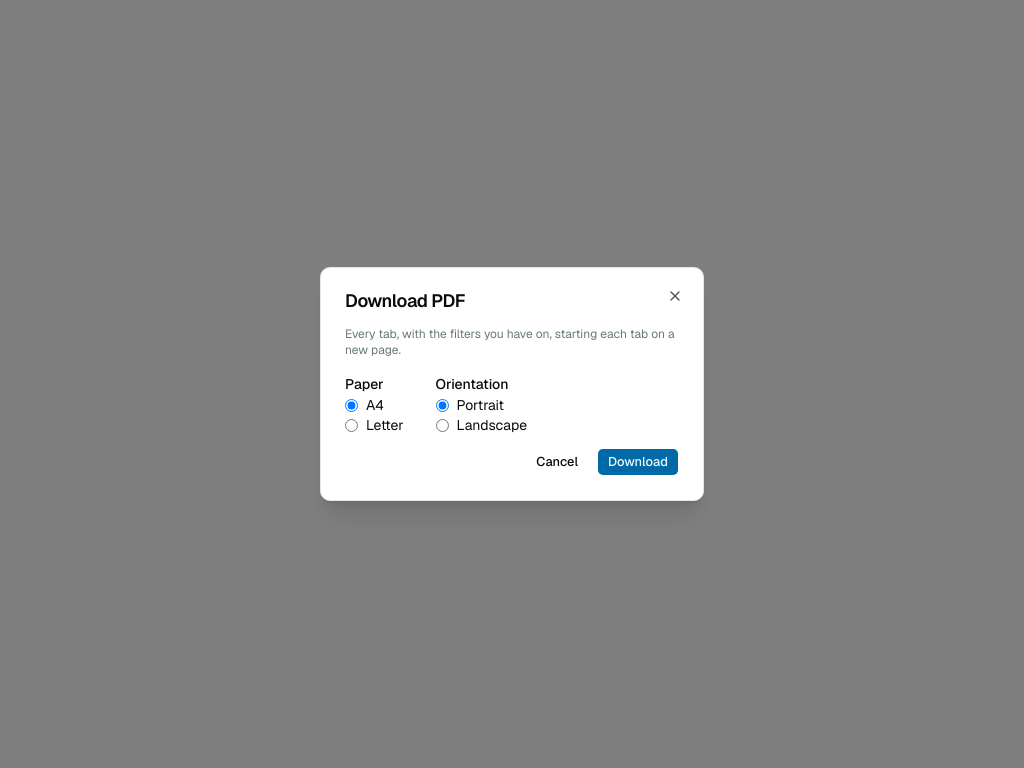
it: Download PDF… › defaults to A4 portrait and stays open with the server's sentence when the PDF fails
Click the button "Download" at x=638, y=462, box [597,448,679,476]
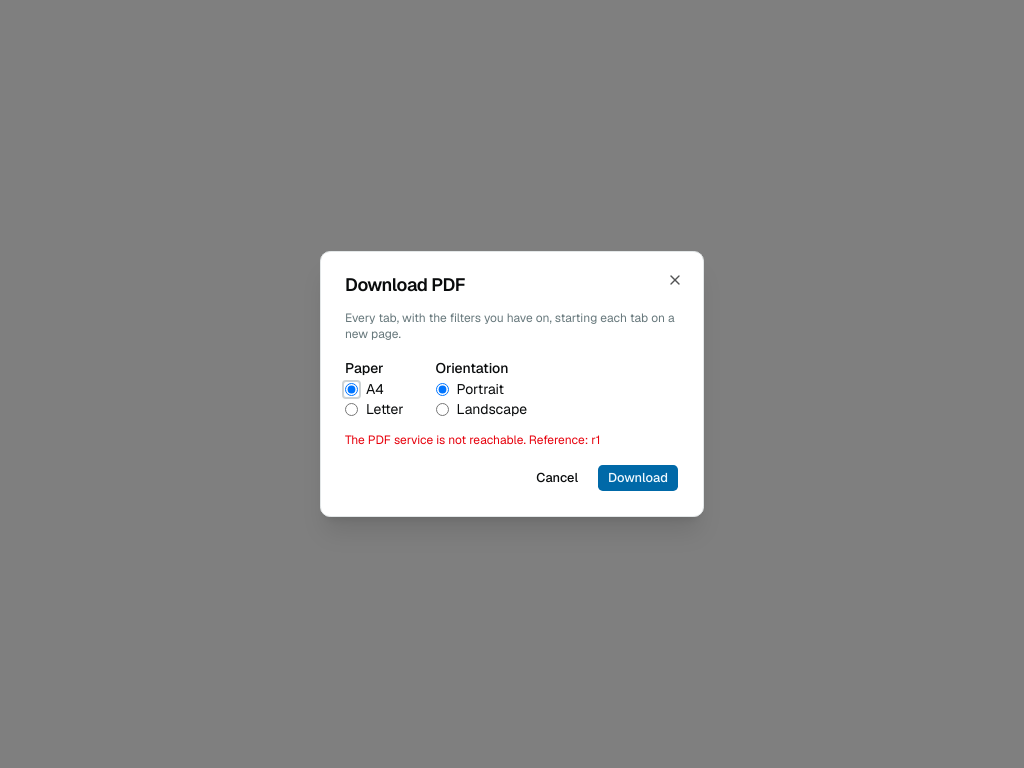
Check: the button "Download" is enabled, box [597,464,679,492]
Check: the message reads "The PDF service is not reachable. Reference: r1", box [345,432,600,448]
